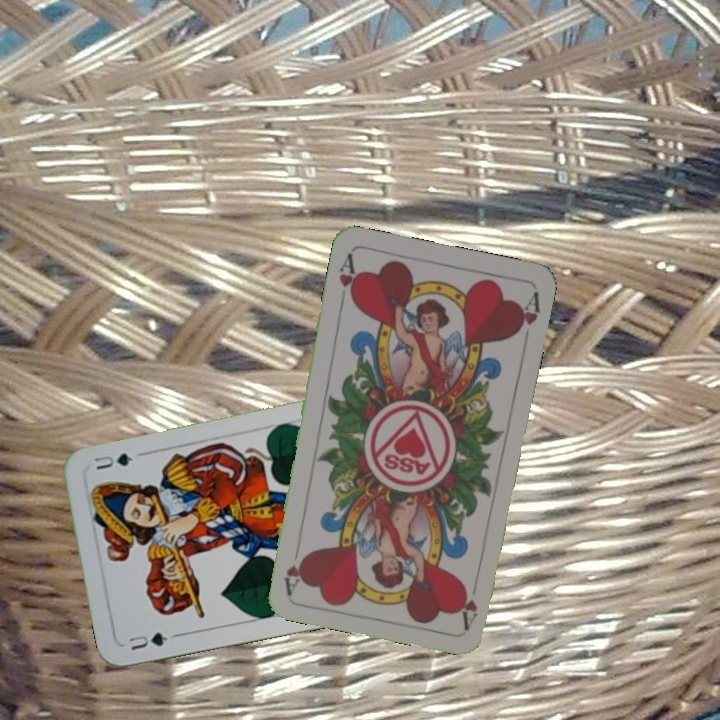GU: (124, 628, 170, 653)
HA: (335, 249, 361, 309), (454, 580, 480, 630)
